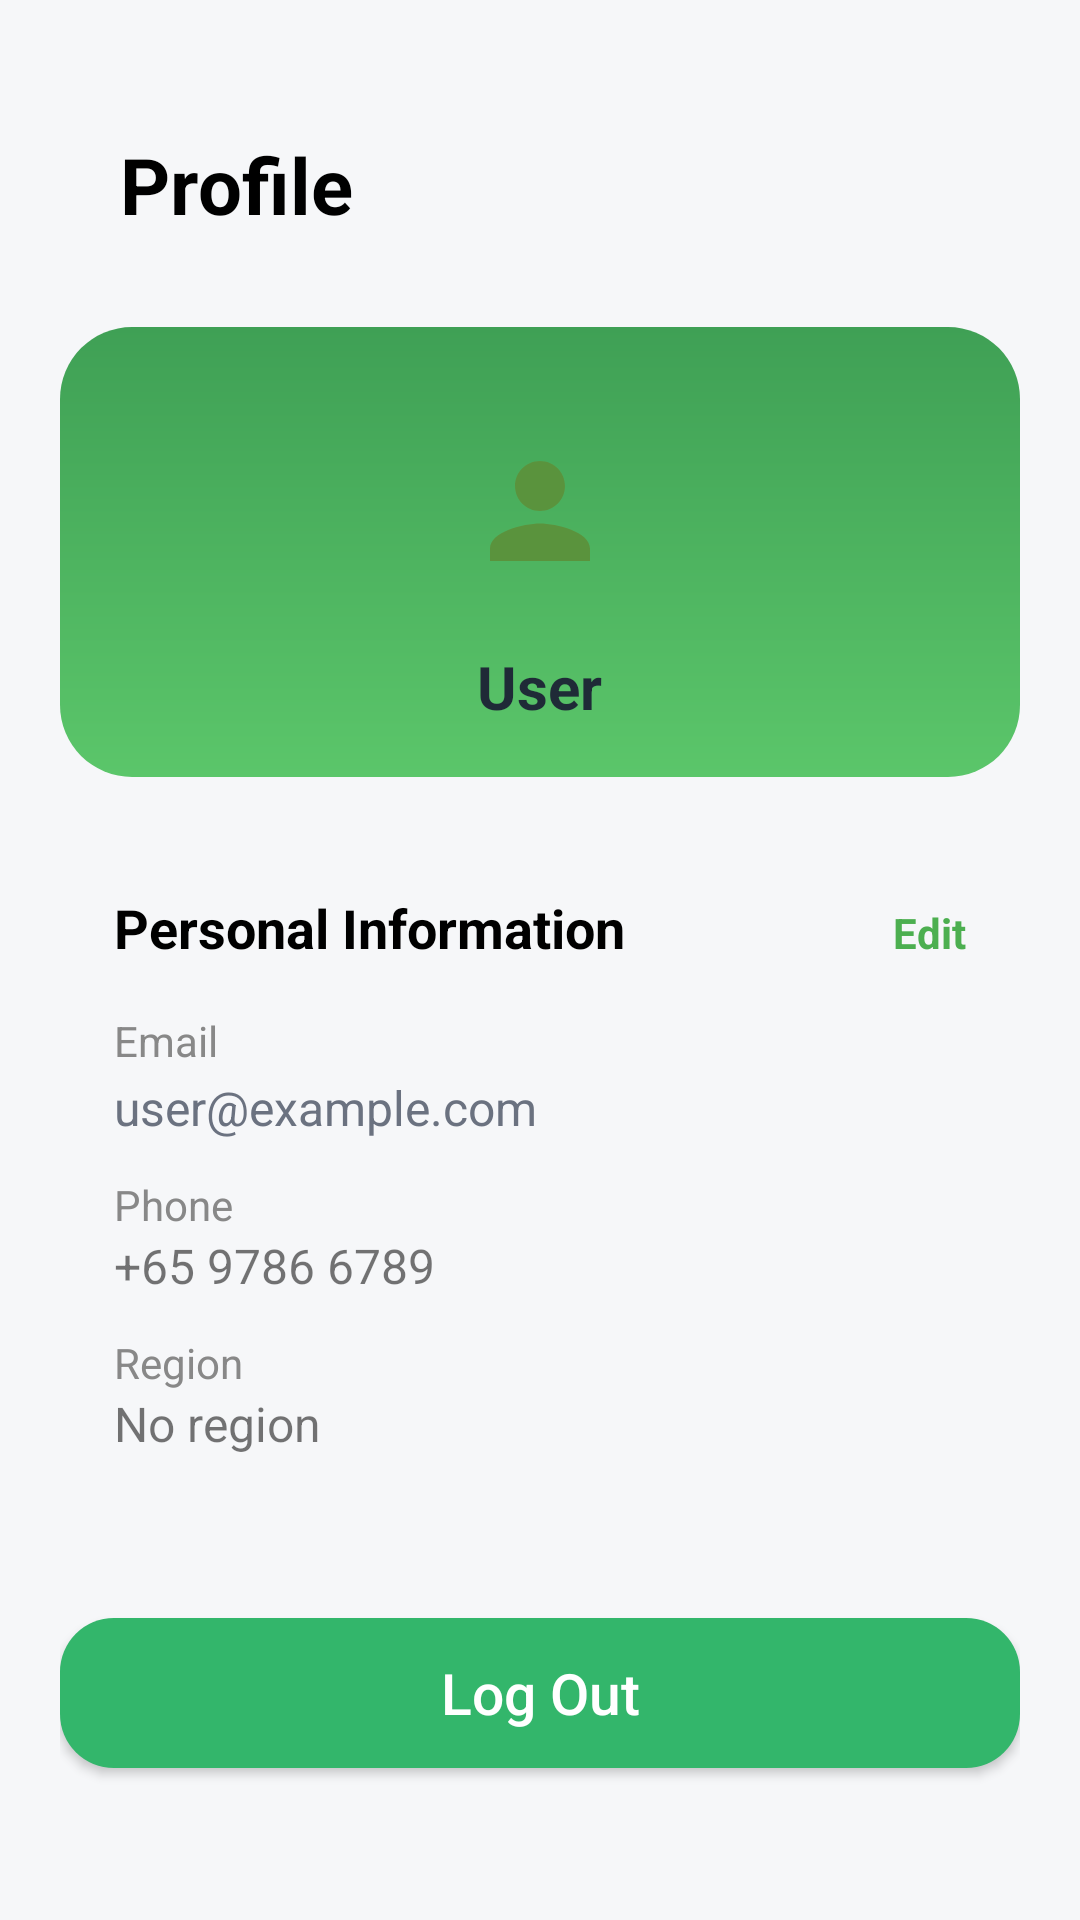

Named icons in this screenshot (1080×1920) and their bounding boxes, (x1, y1, x2, y2):
person: (490, 461, 590, 561)
